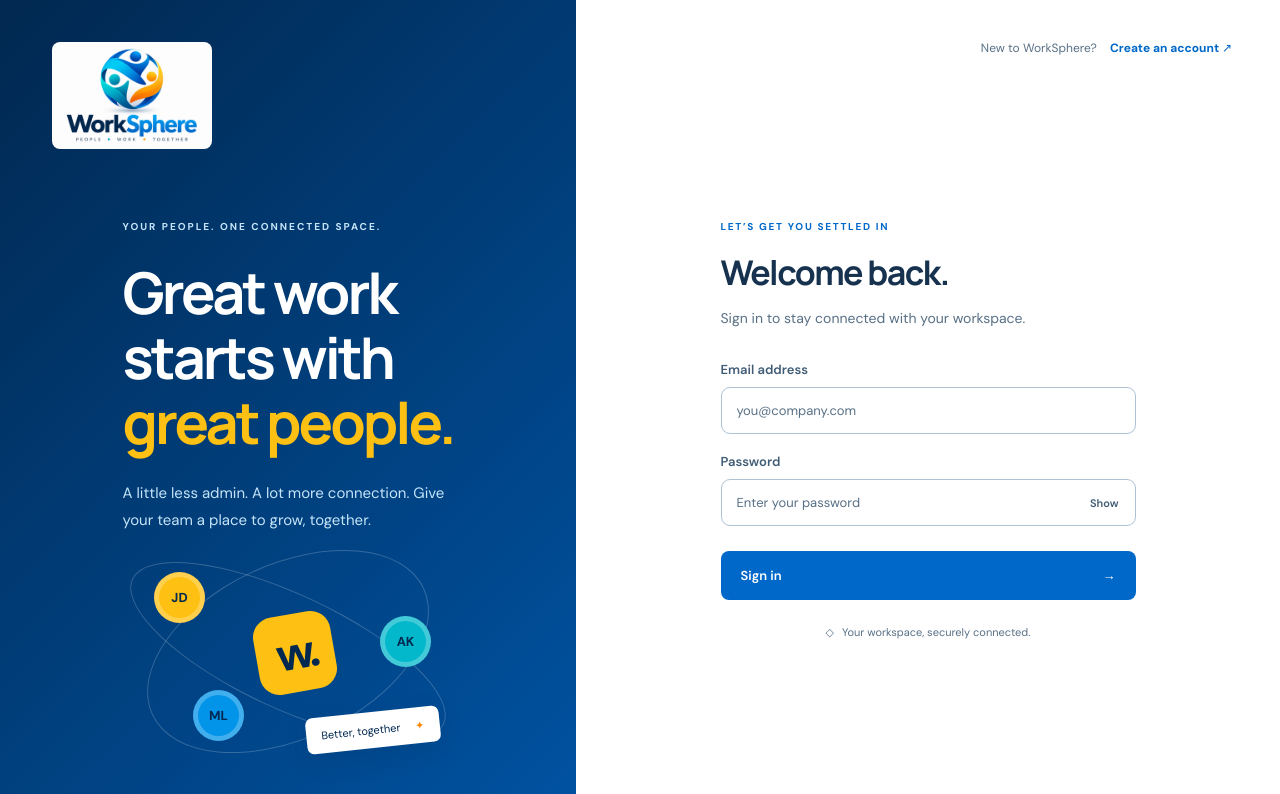
Test: shows server errors and lets the user retry
Type "jamie@example.com" into the field labelled "Email address" at point(928, 411), box [720,387,1136,434]
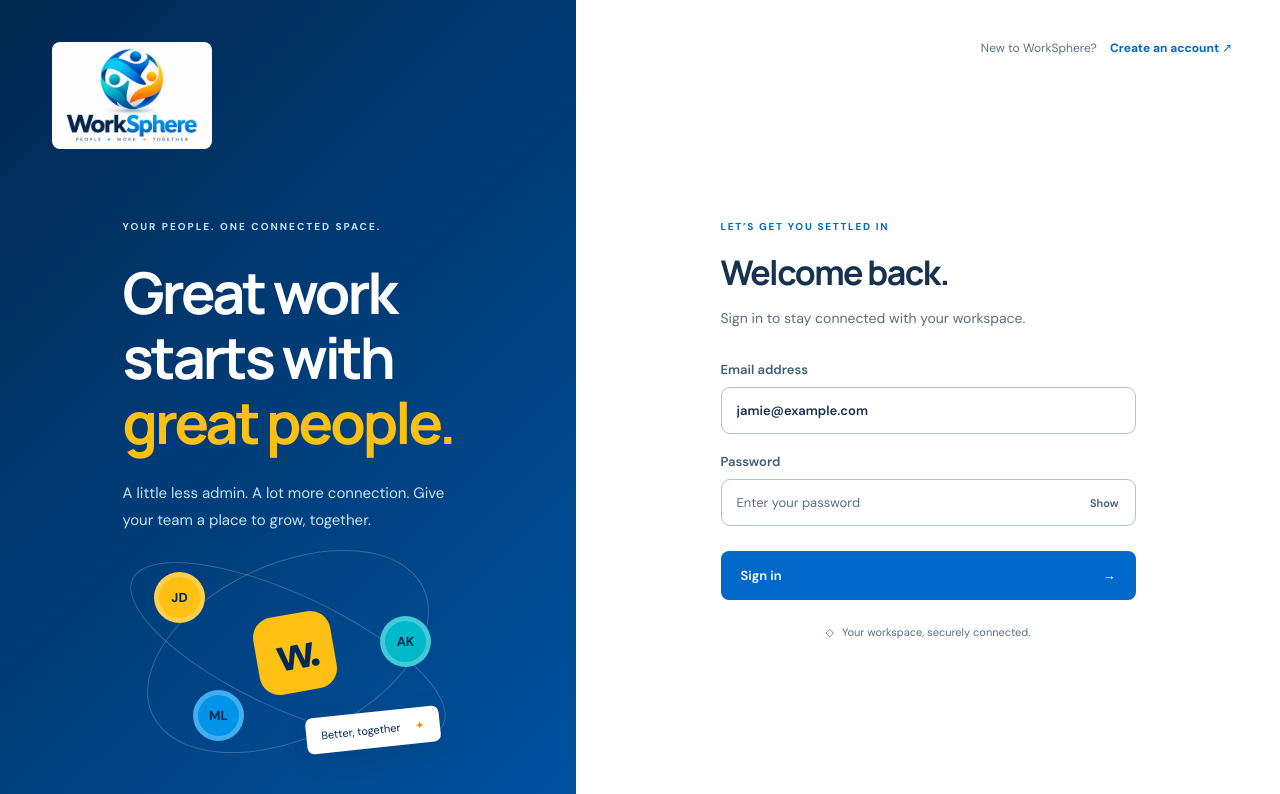
Type "bad-password" into the password field labelled "Password" at point(928, 503), box [720,479,1136,526]
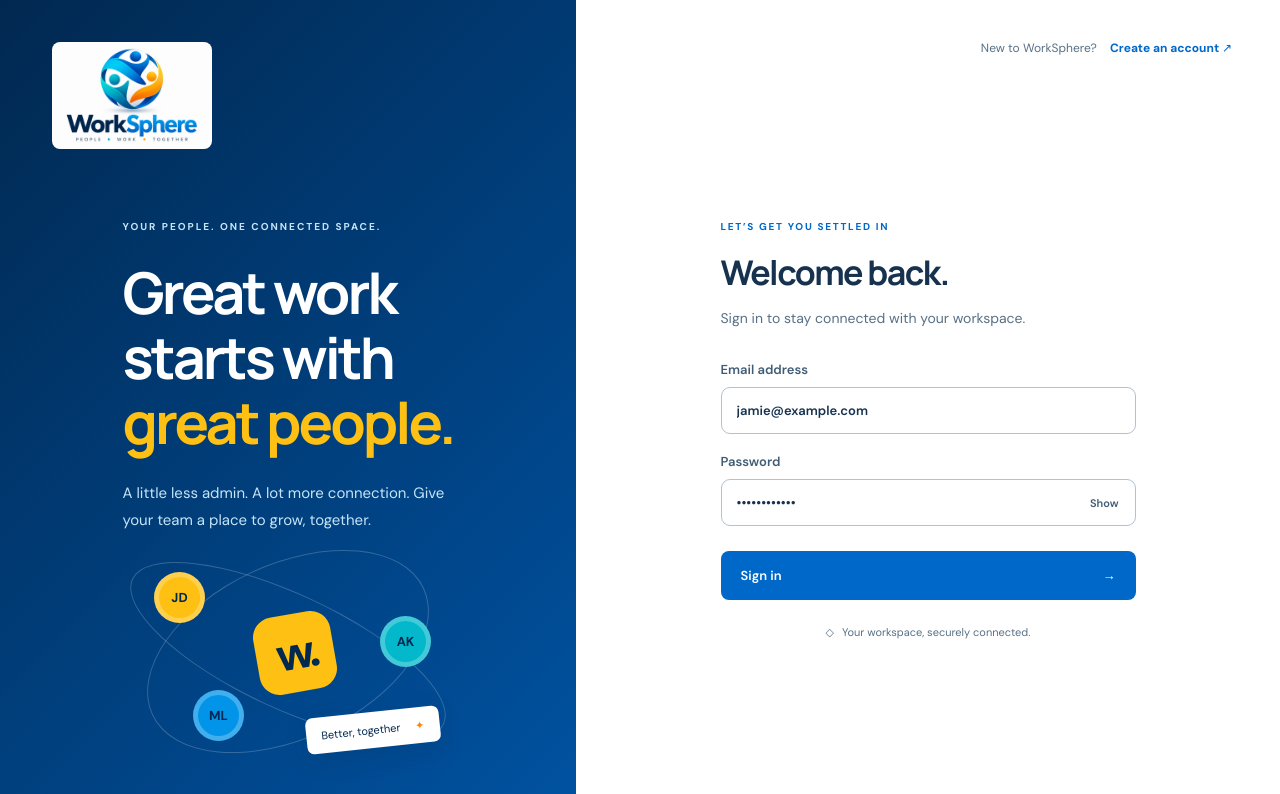
Click the button "Sign in →" at point(761, 576), box [720,551,1136,600]
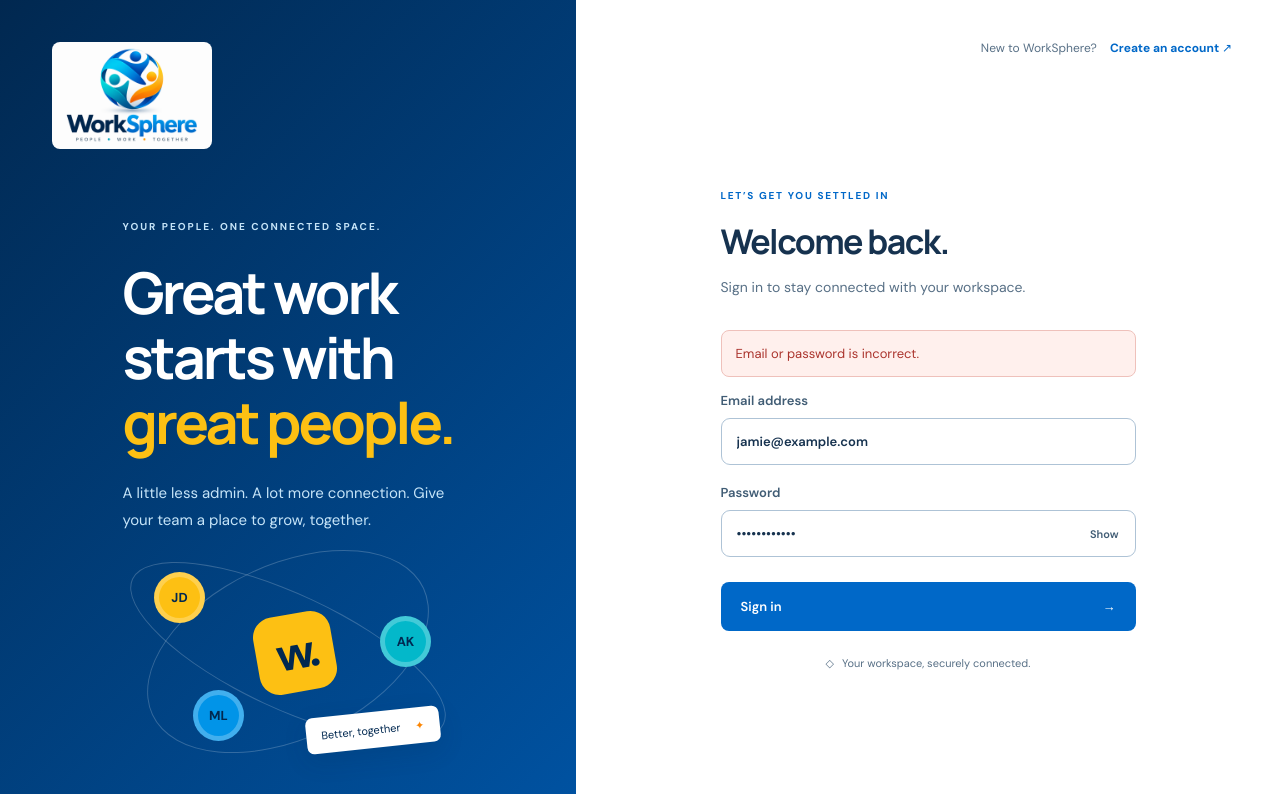
Expected: the button "Sign in →" is enabled, [720,582,1136,631]
Result: the message reads "Email or password is incorrect." at [736,345,919,362]
